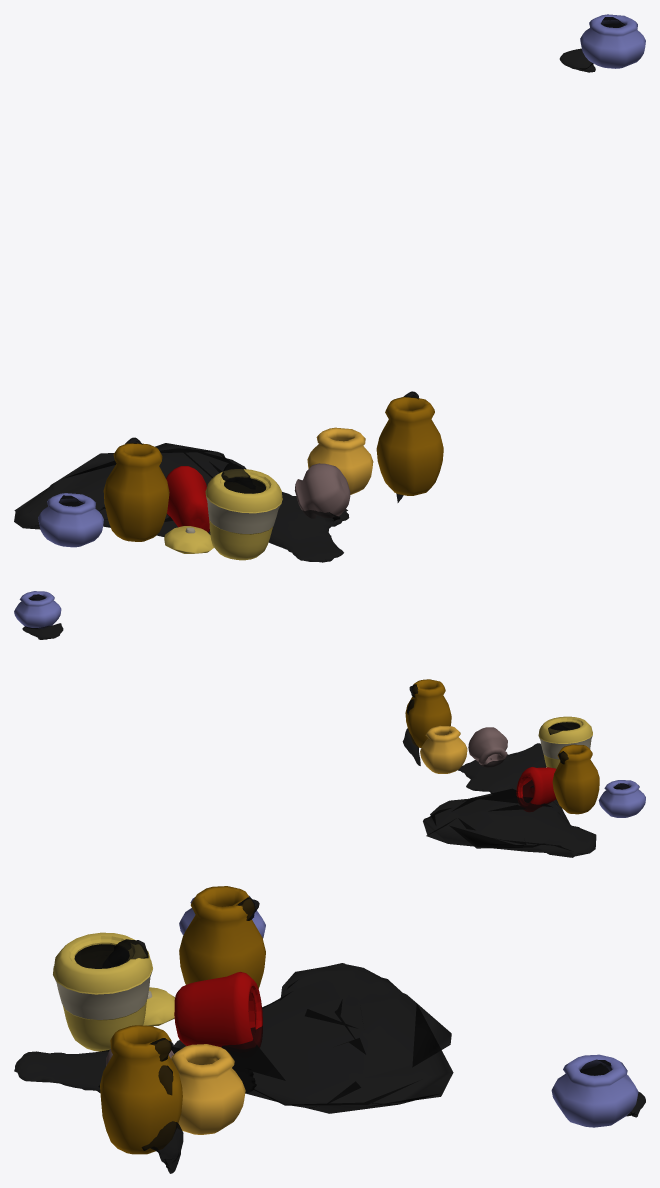
The model's file is Pots.fbx.
3 renders of one model, top to bottom at view 1: azimuth 30°, elevation 25°; view 2: azimuth 150°, elevation 25°; view 3: azimuth 270°, elevation 25°, orthographic. The views are drawn at different scales.
Parts seen in each view (by area): view 1: HoneyJar1, HoneyJarMod13, HoneyJarMod9, Sploch1, Sploch9, HoneyJarMod11, HoneyJarMod10, HoneyJarMod12, HoneyJarMod8, HoneyJar10, HoneyJarLid; view 2: Sploch1, HoneyJarMod9, Sploch9, HoneyJarMod13, HoneyJarMod12, HoneyJar1, HoneyJar10, HoneyJarMod10, HoneyJarMod11, HoneyJarMod8, Sploch14; view 3: Sploch1, HoneyJar1, HoneyJarMod13, HoneyJarMod9, HoneyJar10, HoneyJarMod12, HoneyJarMod11, Sploch9, Sploch11, HoneyJarLid, Sploch3, HoneyJarMod10.
Part boxes in pixels (x1,y1,x2,y2): HoneyJar1: (205,469,282,560); HoneyJarMod13: (376,396,443,495); HoneyJarMod9: (103,443,169,541); Sploch1: (14,443,246,537); Sploch9: (268,492,349,562); HoneyJarMod11: (580,14,645,68); HoneyJarMod10: (38,493,103,547); HoneyJarMod12: (307,427,373,494); HoneyJarMod8: (294,463,350,518); HoneyJar10: (166,466,209,532); HoneyJarLid: (164,526,213,553); Sploch1: (423,788,596,857); HoneyJarMod9: (552,744,599,814); Sploch9: (458,743,546,793); HoneyJarMod13: (405,679,451,747); HoneyJarMod12: (420,725,467,773); HoneyJar1: (538,716,592,768); HoneyJar10: (516,767,556,811); HoneyJarMod10: (598,780,645,817); HoneyJarMod11: (14,591,61,628); HoneyJarMod8: (468,727,507,767); Sploch14: (22,623,63,639); Sploch1: (173,963,453,1113); HoneyJar1: (53,932,152,1051); HoneyJarMod13: (100,1025,182,1154); HoneyJarMod9: (179,886,265,988); HoneyJar10: (174,972,262,1048); HoneyJarMod12: (171,1044,245,1134); HoneyJarMod11: (551,1054,638,1127); Sploch9: (14,1047,256,1093); Sploch11: (141,1121,183,1173); HoneyJarLid: (143,987,175,1026); Sploch3: (102,939,148,968); HoneyJarMod10: (179,896,265,938).
Size of the model in its own units: 4.57 by 1.62 by 2.6.
